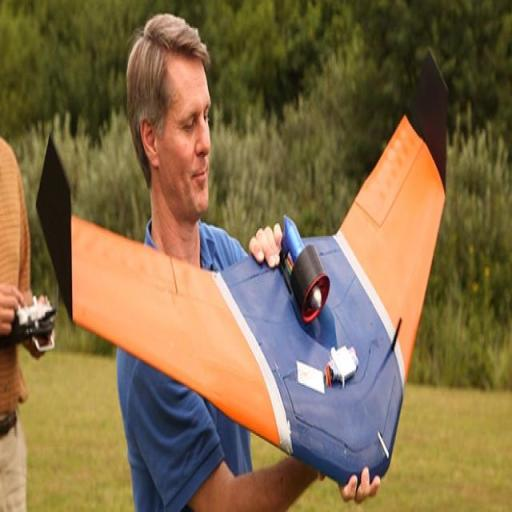uav: (36, 50, 462, 487)
